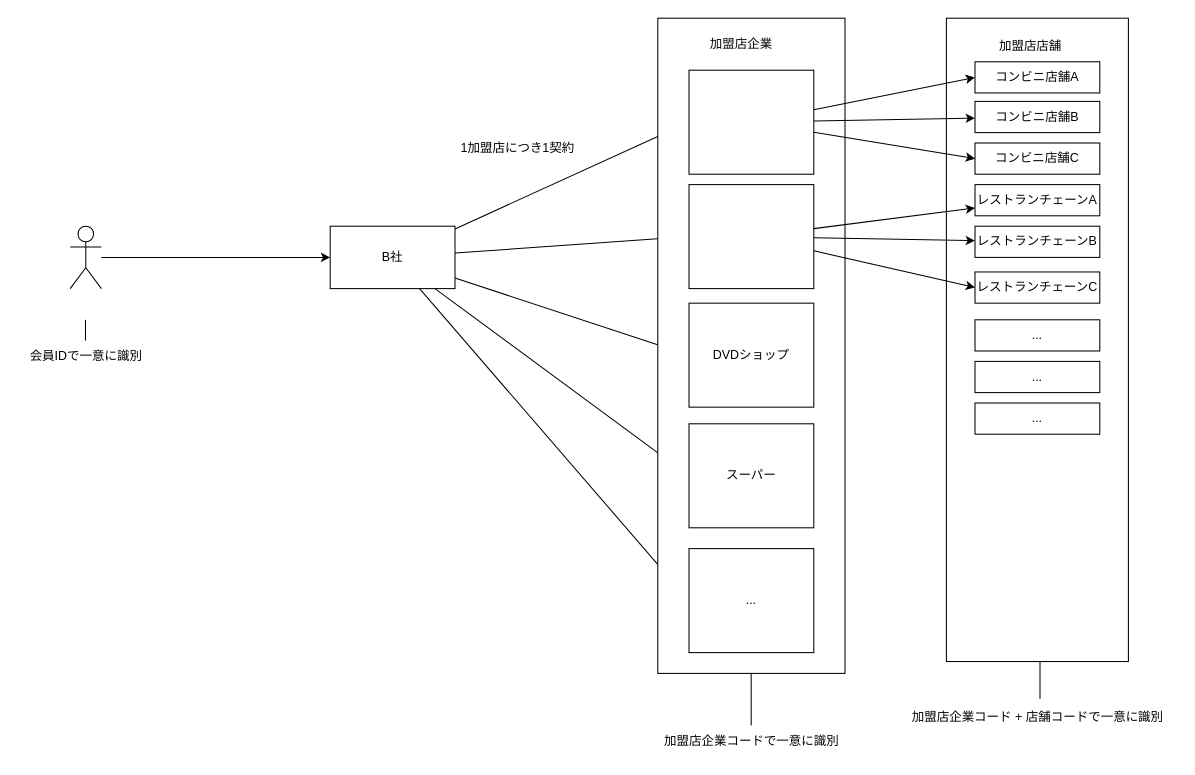
Image size: 1195x775. Some labels were removed from this diagram. Each missing label, with the centre of its shape:
"コンビニ" goes at (x=751, y=121).
"ポイントカード会員" goes at (x=85, y=257).
"レストランチェーン" goes at (x=751, y=236).
